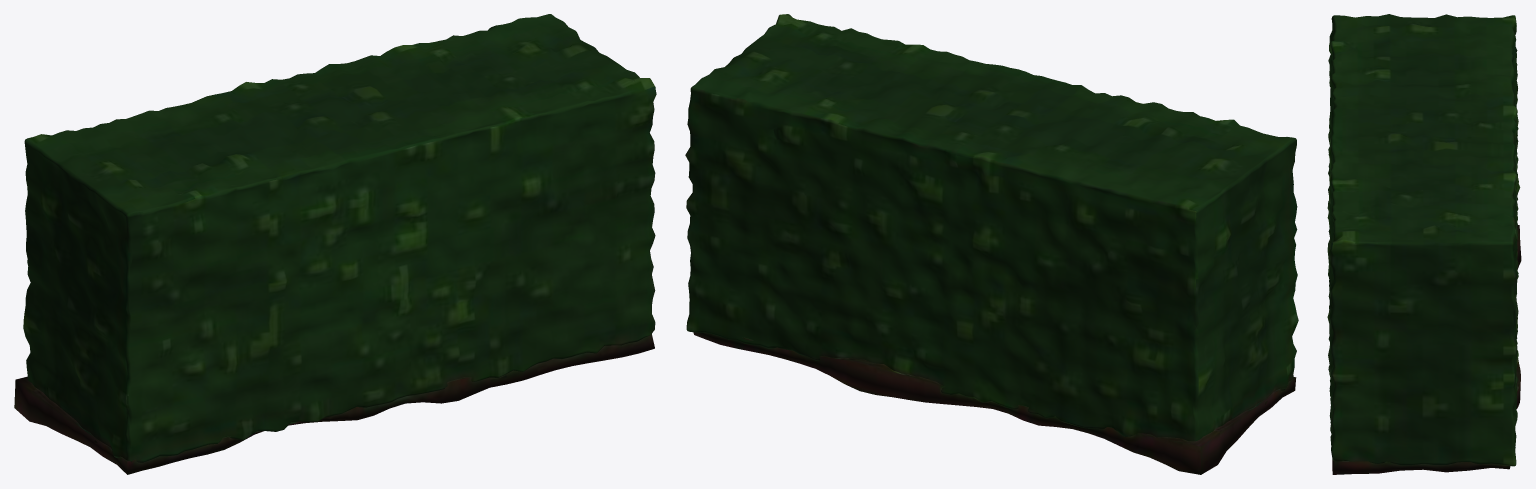
File: hedge.glb
3 renders of one model, left to right at view 1: azimuth 30°, elevation 25°; view 2: azimuth 150°, elevation 25°; view 3: azimuth 270°, elevation 25°, orthographic. The views are drawn at different scales.
Visible parts, largest first — view 1: hedge; view 2: hedge; view 3: hedge.
Part boxes in pixels (x1=…): hedge: x1=14, y1=14, x2=656, y2=474; hedge: x1=685, y1=14, x2=1298, y2=474; hedge: x1=1327, y1=14, x2=1521, y2=474.
Size of the model in its own units: 2 by 0.9883 by 0.7037.
1 material, 1 textured.
